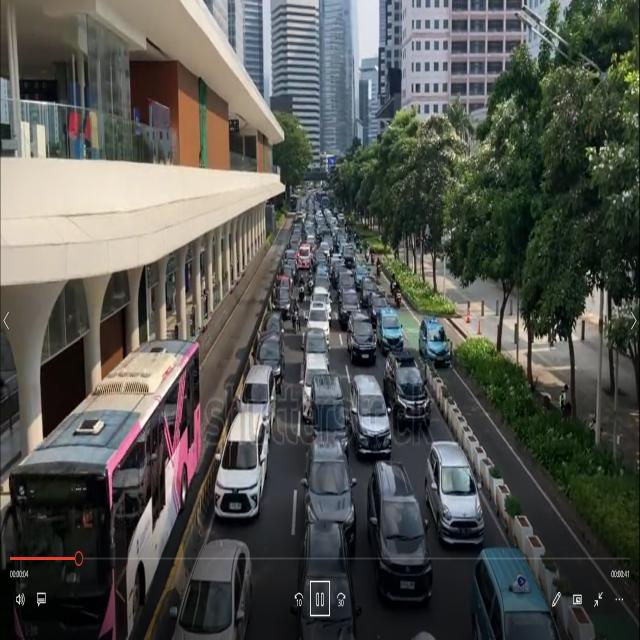Ambulance: (297, 239, 316, 276)
